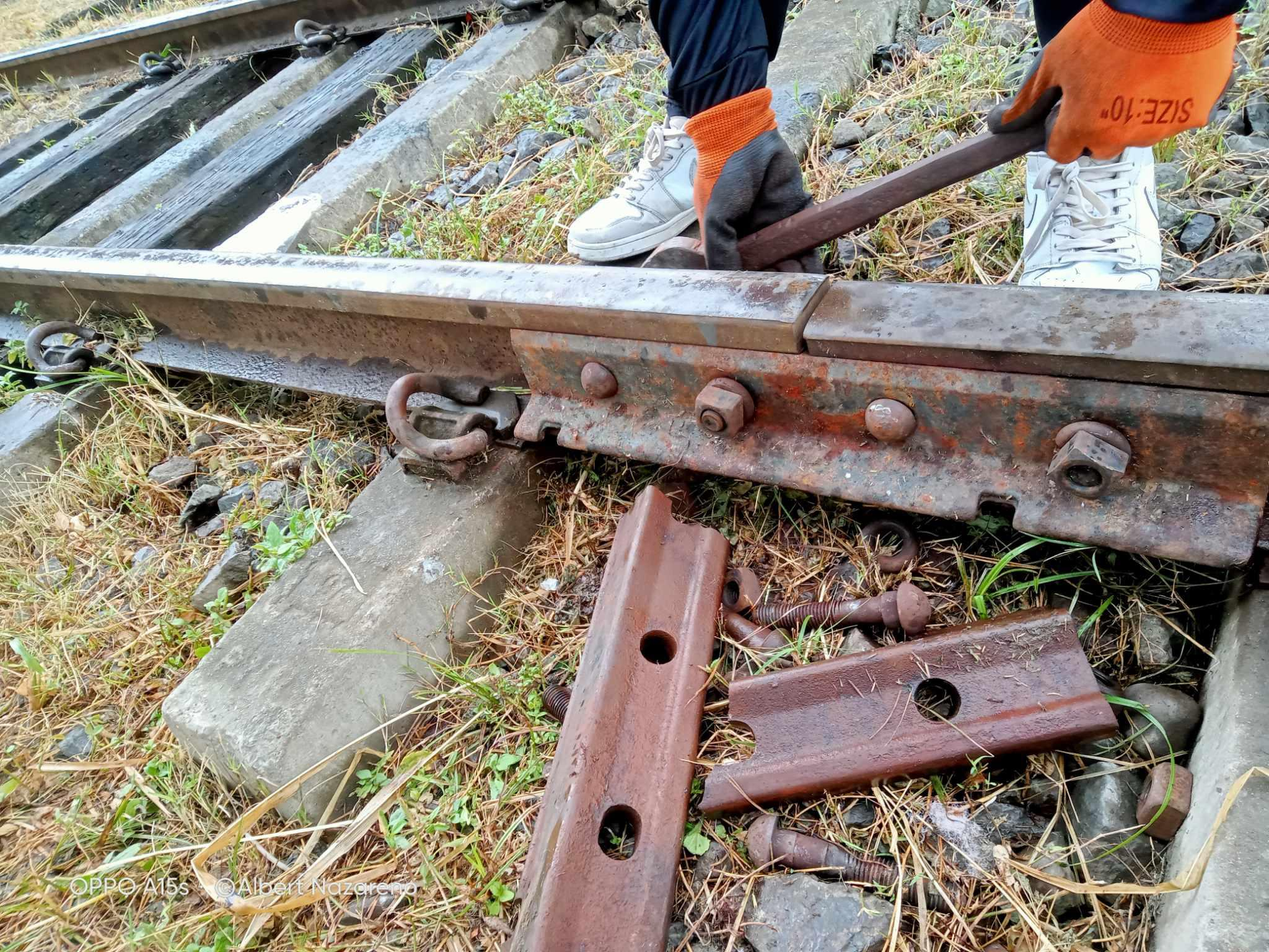railway-gap: (755, 250, 865, 369)
